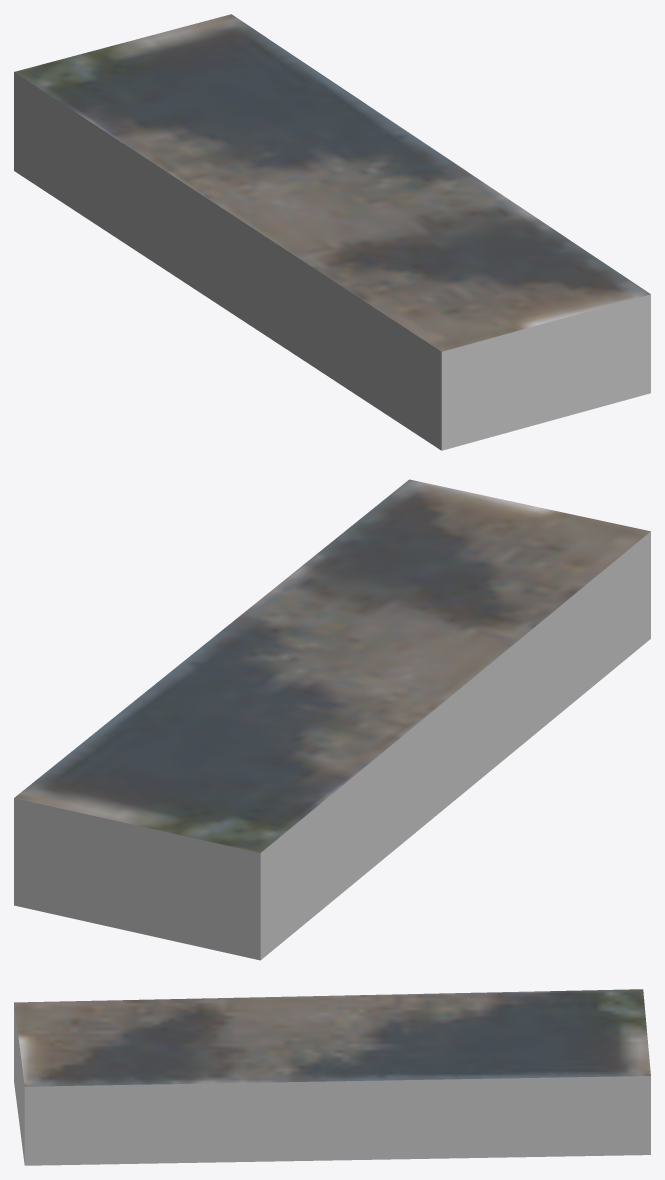
File: DEBW_0010007Tx9o.gltf
3 renders of one model, top to bottom at view 1: azimuth 30°, elevation 25°; view 2: azimuth 150°, elevation 25°; view 3: azimuth 270°, elevation 25°, orthographic. The views are drawn at different scales.
Visible parts, largest first — view 1: Z_UP; view 2: Z_UP; view 3: Z_UP.
Boxes of the visible parts, x1,y1,x2,y2 form: Z_UP: [14, 14, 650, 450]; Z_UP: [14, 479, 650, 960]; Z_UP: [14, 989, 650, 1165].
Size of the model in its own units: 6.25 by 2.37 by 17.26.
Materials: 2 (1 with a texture image).
